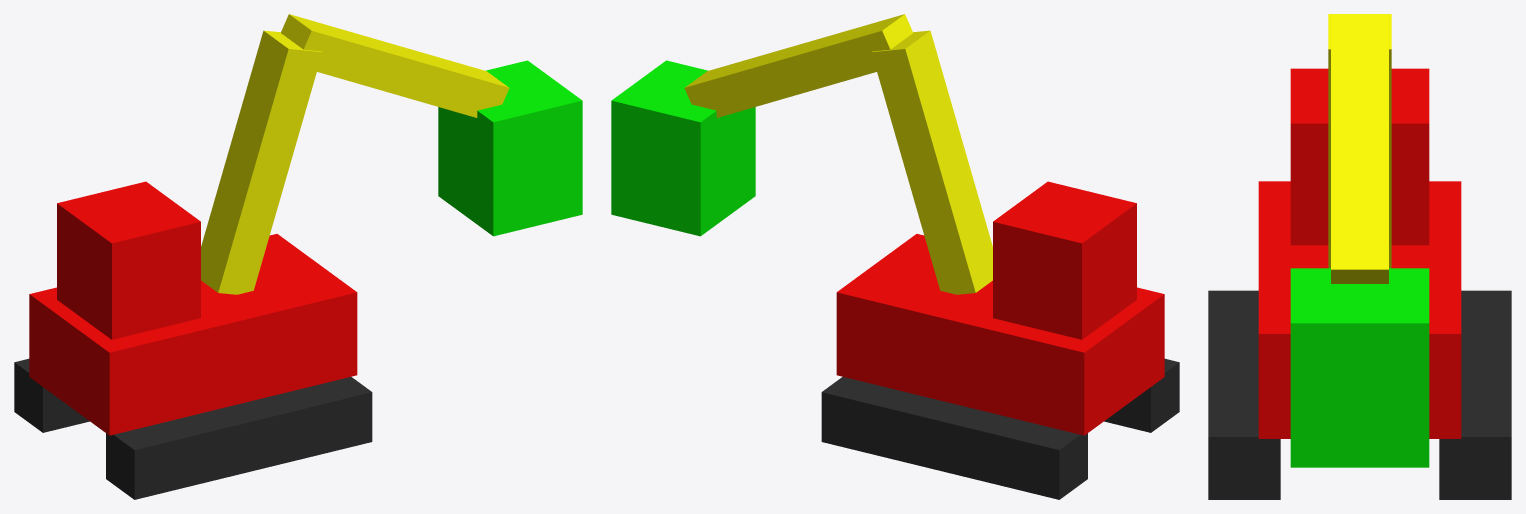
Rendered from excavator.glb.
3 renders of one model, left to right at view 1: azimuth 30°, elevation 25°; view 2: azimuth 150°, elevation 25°; view 3: azimuth 270°, elevation 25°, orthographic. The views are drawn at different scales.
Parts seen in each view (by area): view 1: body, bucket, cabin, leftTrack, boom, arm, rightTrack; view 2: body, bucket, cabin, rightTrack, boom, arm, leftTrack; view 3: bucket, body, arm, cabin, leftTrack, rightTrack, boom.
Boxes of the visible parts, x1,y1,x2,y2 form: body: (29, 234, 357, 435); bucket: (438, 60, 582, 236); cabin: (57, 181, 200, 339); leftTrack: (106, 377, 372, 499); boom: (201, 30, 322, 294); arm: (281, 14, 509, 117); rightTrack: (14, 358, 89, 432); body: (836, 234, 1164, 435); bucket: (611, 60, 755, 236); cabin: (993, 181, 1136, 339); rightTrack: (821, 377, 1087, 499); boom: (871, 30, 992, 294); arm: (684, 14, 912, 117); leftTrack: (1104, 358, 1179, 432); bucket: (1290, 268, 1429, 467); body: (1258, 181, 1461, 438); arm: (1331, 14, 1388, 283); cabin: (1290, 68, 1429, 245); leftTrack: (1208, 290, 1280, 499); rightTrack: (1439, 290, 1511, 499); boom: (1328, 14, 1391, 268).
Size of the model in its own units: 4.9 by 3.65 by 2.1.
